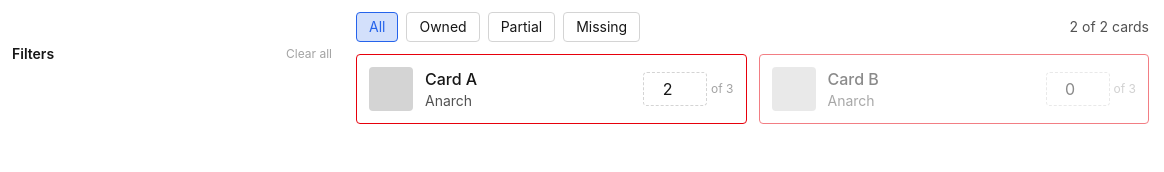
SetCardGrid › the "Missing" filter hides cards with a positive owned quantity
Click the button "Missing" at x=602, y=27, box [563,12,640,42]
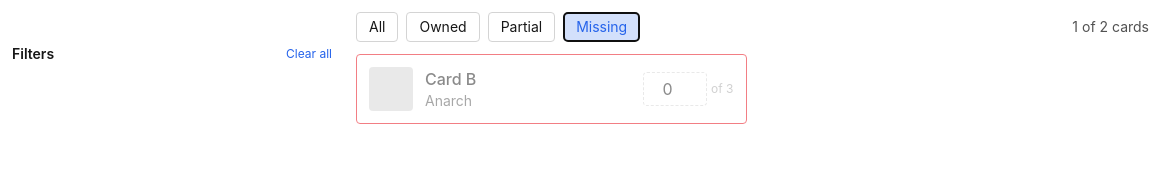
Check: the text "Card B" is shown, box [425,69,476,89]
Check: the text "Card A" is gone
